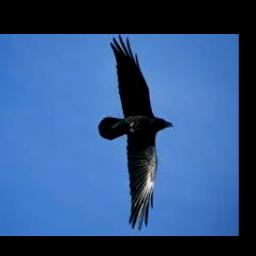Crow: (97, 34, 174, 229)
